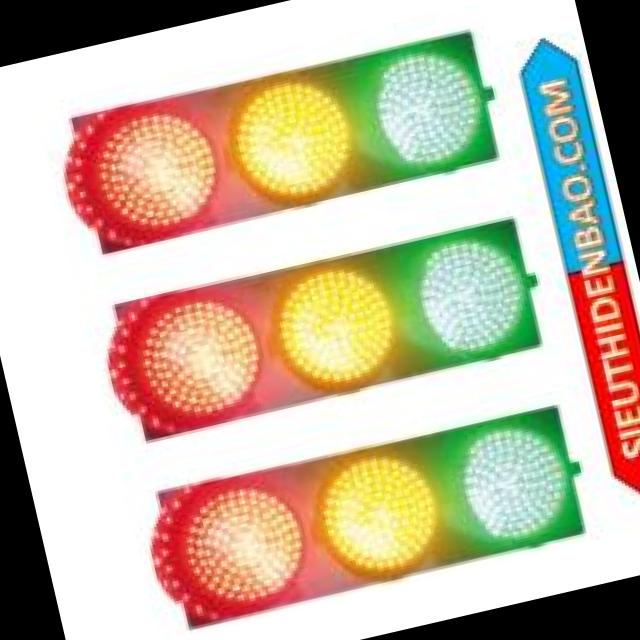green-lights: (341, 24, 496, 184), (441, 404, 591, 562), (390, 214, 538, 374)
red-lights: (104, 256, 292, 454), (154, 462, 335, 638), (63, 77, 239, 254)
yellow-lights: (215, 44, 372, 222), (302, 418, 450, 592), (271, 245, 414, 408)
